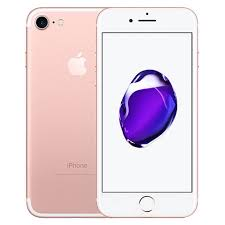iphone: (92, 3, 203, 221)
iphone7: (91, 3, 202, 221)
